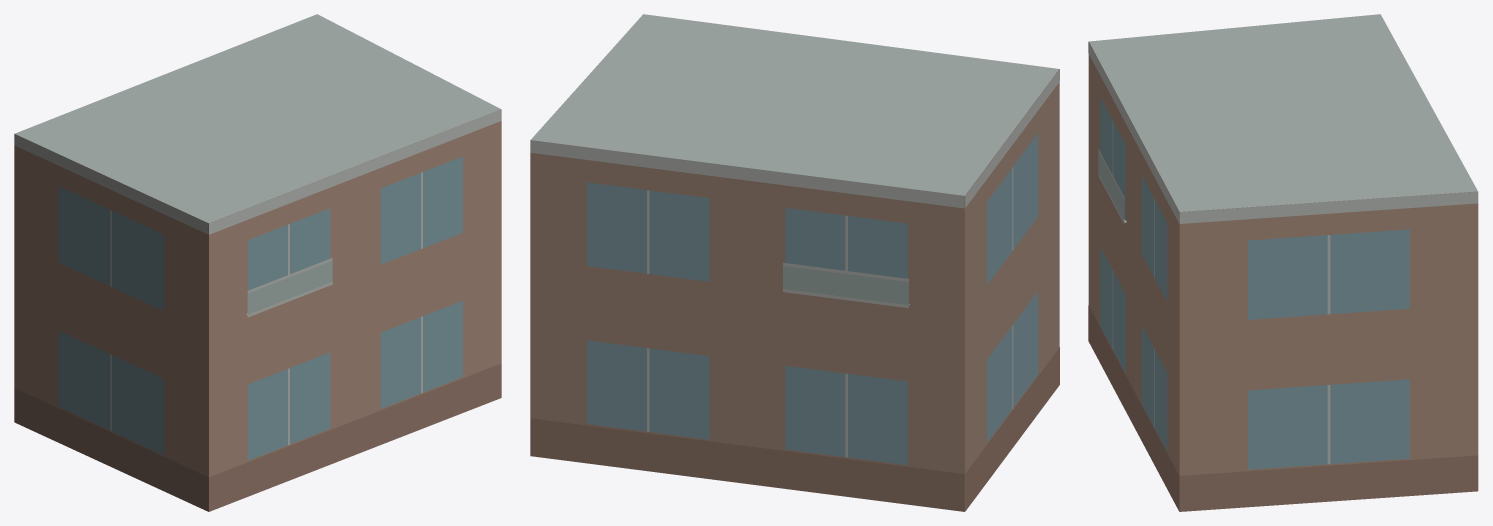
The model's file is survey-upis-33032094.glb.
The picture shows the model from 3 angles, left to right: view 1: azimuth 30°, elevation 25°; view 2: azimuth 150°, elevation 25°; view 3: azimuth 270°, elevation 25°; orthographic projection. The views are drawn at different scales.
Visible parts, largest first — view 1: survey-upis-33032094.tmp; view 2: survey-upis-33032094.tmp; view 3: survey-upis-33032094.tmp.
Boxes of the visible parts, x1=… form: survey-upis-33032094.tmp: x1=14, y1=14, x2=501, y2=511; survey-upis-33032094.tmp: x1=530, y1=14, x2=1059, y2=511; survey-upis-33032094.tmp: x1=1088, y1=14, x2=1478, y2=511.
Bounding box in the file's own units: 8.65 × 6.1 × 7.19.
